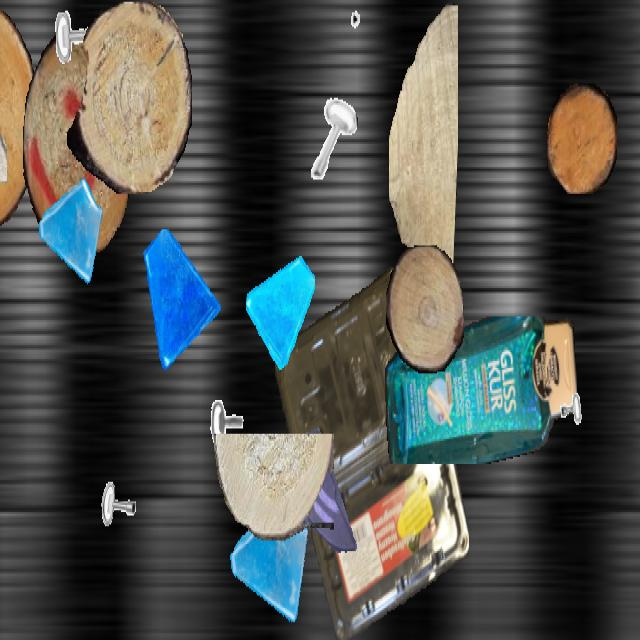glass: (228, 489, 312, 638), (141, 230, 221, 372), (282, 416, 362, 558), (37, 172, 105, 294), (246, 247, 314, 368)
metal: (49, 2, 109, 108), (95, 439, 147, 532), (307, 92, 357, 182), (208, 366, 254, 448), (551, 351, 595, 428), (350, 2, 390, 73)
plastic: (275, 265, 469, 638), (385, 316, 577, 462)
wood: (67, 2, 191, 194), (23, 36, 131, 252), (389, 1, 457, 282), (214, 434, 334, 540), (386, 245, 464, 374), (0, 2, 39, 229), (547, 84, 617, 194), (0, 80, 6, 183)
